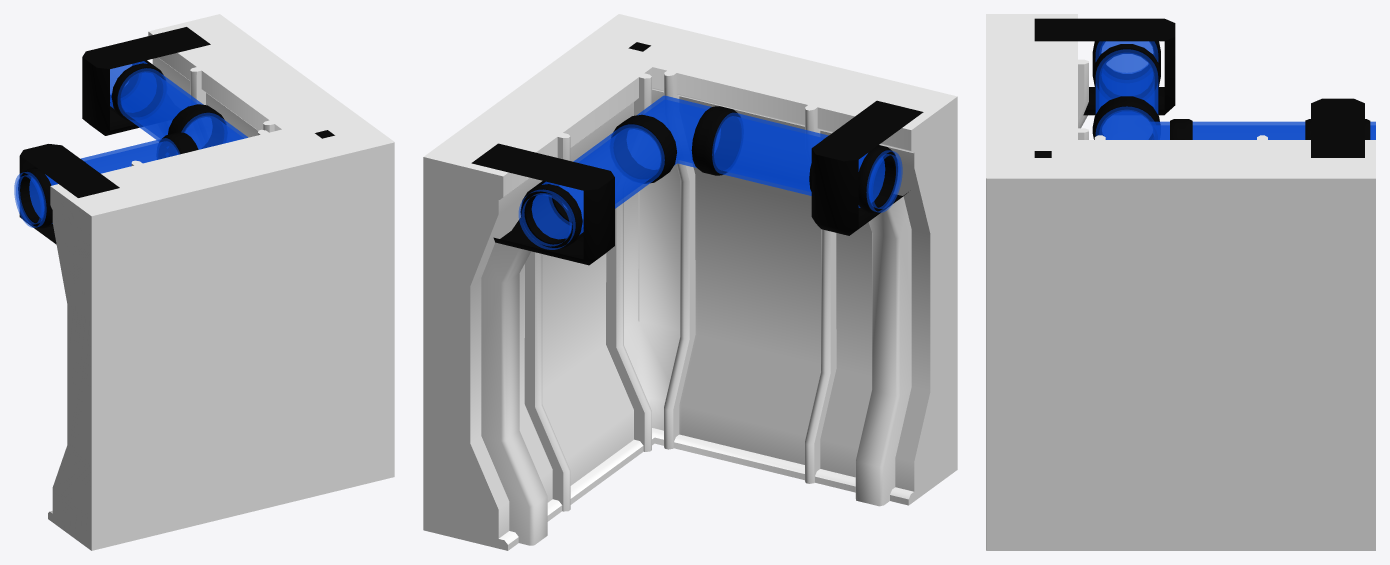
Rendered from WallCorner.fbx.
The picture shows the model from 3 angles, left to right: view 1: azimuth 30°, elevation 25°; view 2: azimuth 150°, elevation 25°; view 3: azimuth 270°, elevation 25°; orthographic projection. The views are drawn at different scales.
Parts seen in each view (by area): view 1: Wall; view 2: Wall; view 3: Wall.
Boxes of the visible parts, bbox=[...] form: Wall: bbox=[14, 14, 394, 550]; Wall: bbox=[423, 14, 957, 550]; Wall: bbox=[986, 14, 1375, 550].
Bounding box in the file's own units: 3.61 × 3.8 × 3.61.
